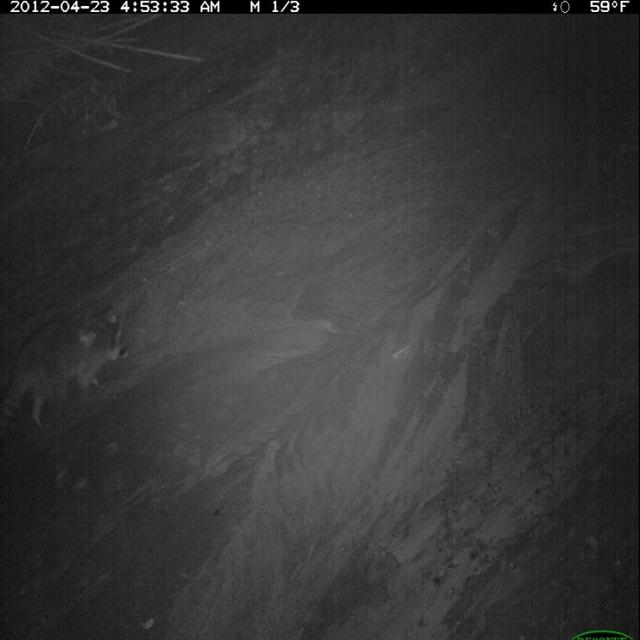raccoon: (1, 298, 133, 442)
